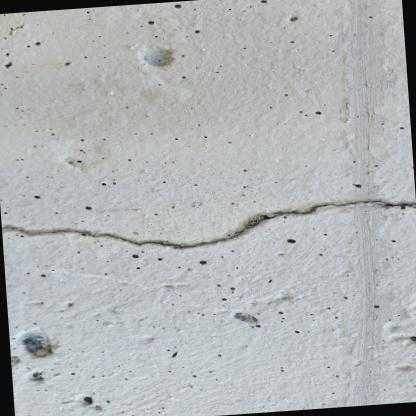crack: (1, 201, 416, 249)
